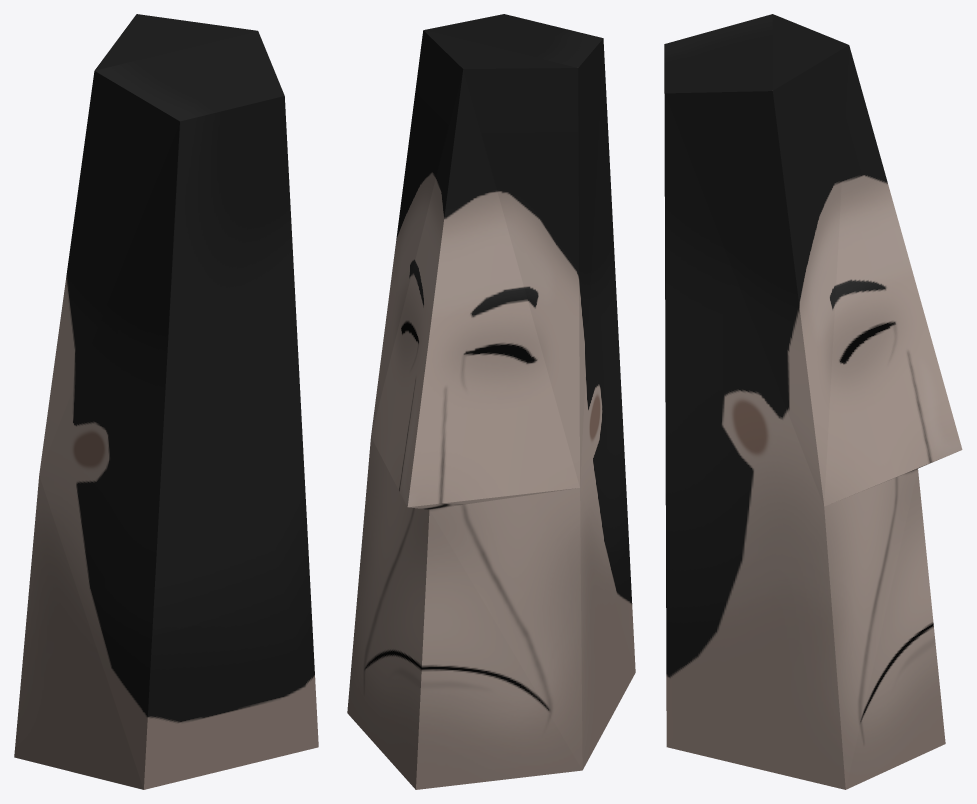
The model's file is pushover.glb.
The picture shows the model from 3 angles, left to right: view 1: azimuth 30°, elevation 25°; view 2: azimuth 150°, elevation 25°; view 3: azimuth 270°, elevation 25°; orthographic projection. The views are drawn at different scales.
Parts seen in each view (by area): view 1: pushover; view 2: pushover; view 3: pushover.
Part boxes in pixels (x1,y1,x2,y2): pushover: (14, 14, 318, 789); pushover: (347, 14, 635, 789); pushover: (664, 14, 962, 789).
Bounding box in the file's own units: 0.6298 × 1.75 × 0.6781.
1 material, 1 textured.
